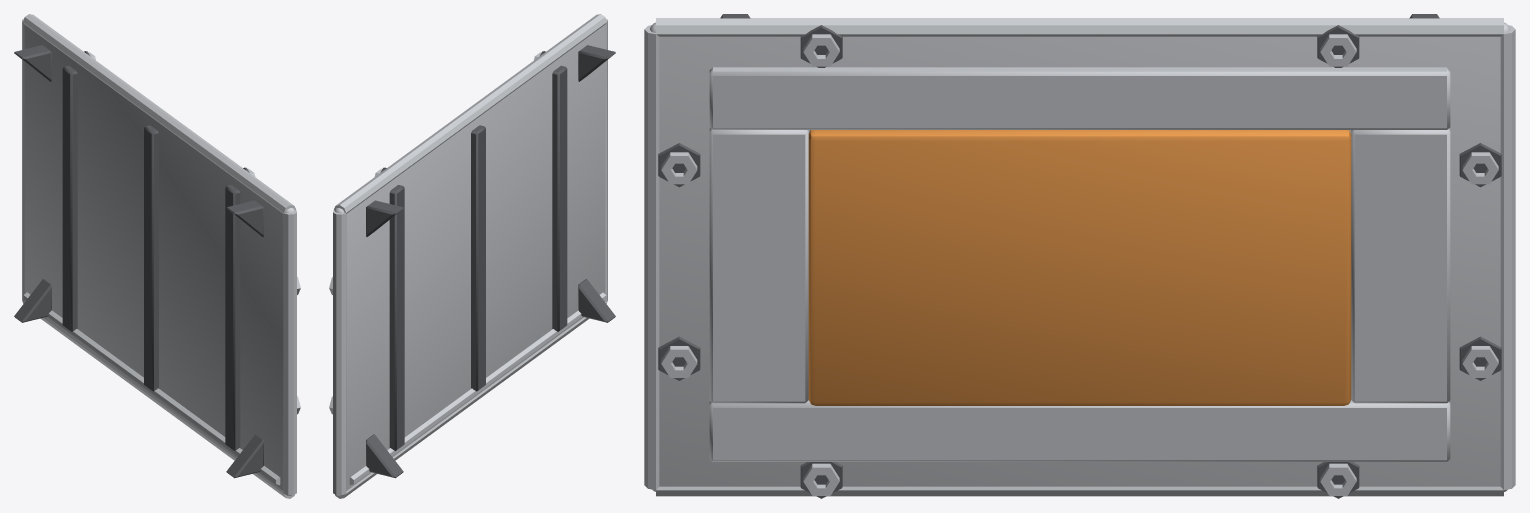
Rendered from plate_flat.glb.
3 renders of one model, left to right at view 1: azimuth 30°, elevation 25°; view 2: azimuth 150°, elevation 25°; view 3: azimuth 270°, elevation 25°, orthographic. The views are drawn at different scales.
Visible parts, largest first — view 1: body; view 2: body; view 3: body.
Boxes of the visible parts, x1=… form: body: x1=14, y1=14, x2=300, y2=498; body: x1=329, y1=14, x2=615, y2=498; body: x1=644, y1=14, x2=1515, y2=498.
Size of the model in its own units: 0.0587 by 0.3056 by 0.5056.
